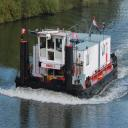tugboat: (14, 25, 120, 103)
